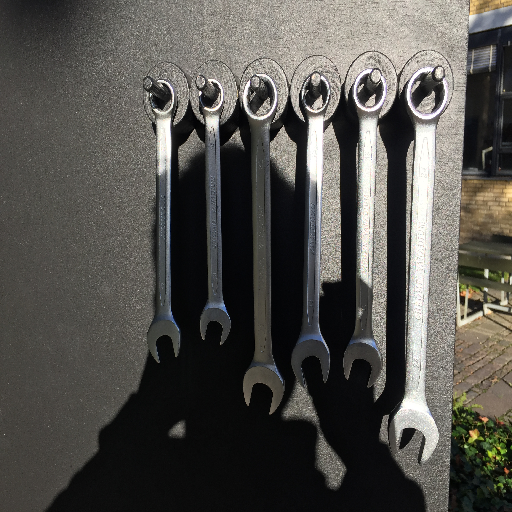bottom: (388, 397, 440, 466), (241, 360, 286, 418), (290, 335, 332, 390), (342, 336, 382, 390), (145, 315, 182, 365), (198, 301, 233, 347)
top: (403, 66, 450, 124), (241, 72, 280, 125), (351, 68, 387, 118), (298, 72, 334, 119), (145, 77, 180, 117), (196, 79, 227, 114)
